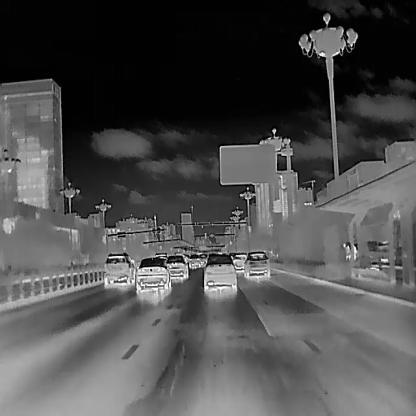car: (135, 257, 171, 296), (202, 252, 238, 290), (103, 252, 137, 287), (242, 251, 270, 278), (165, 255, 189, 283), (232, 252, 248, 272), (187, 253, 200, 268), (198, 253, 208, 267)
